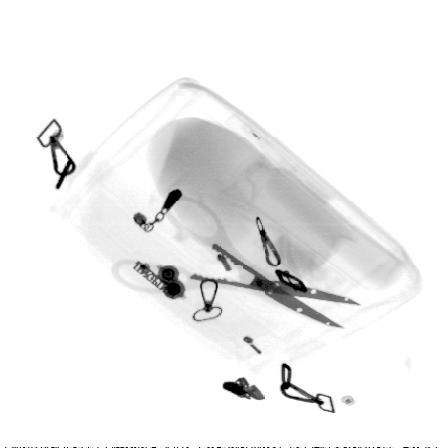Scissors: (111, 193, 363, 328)
